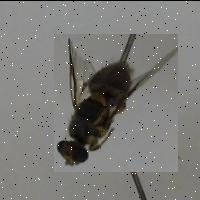Oriental-fruit-fly: (54, 33, 178, 171)
